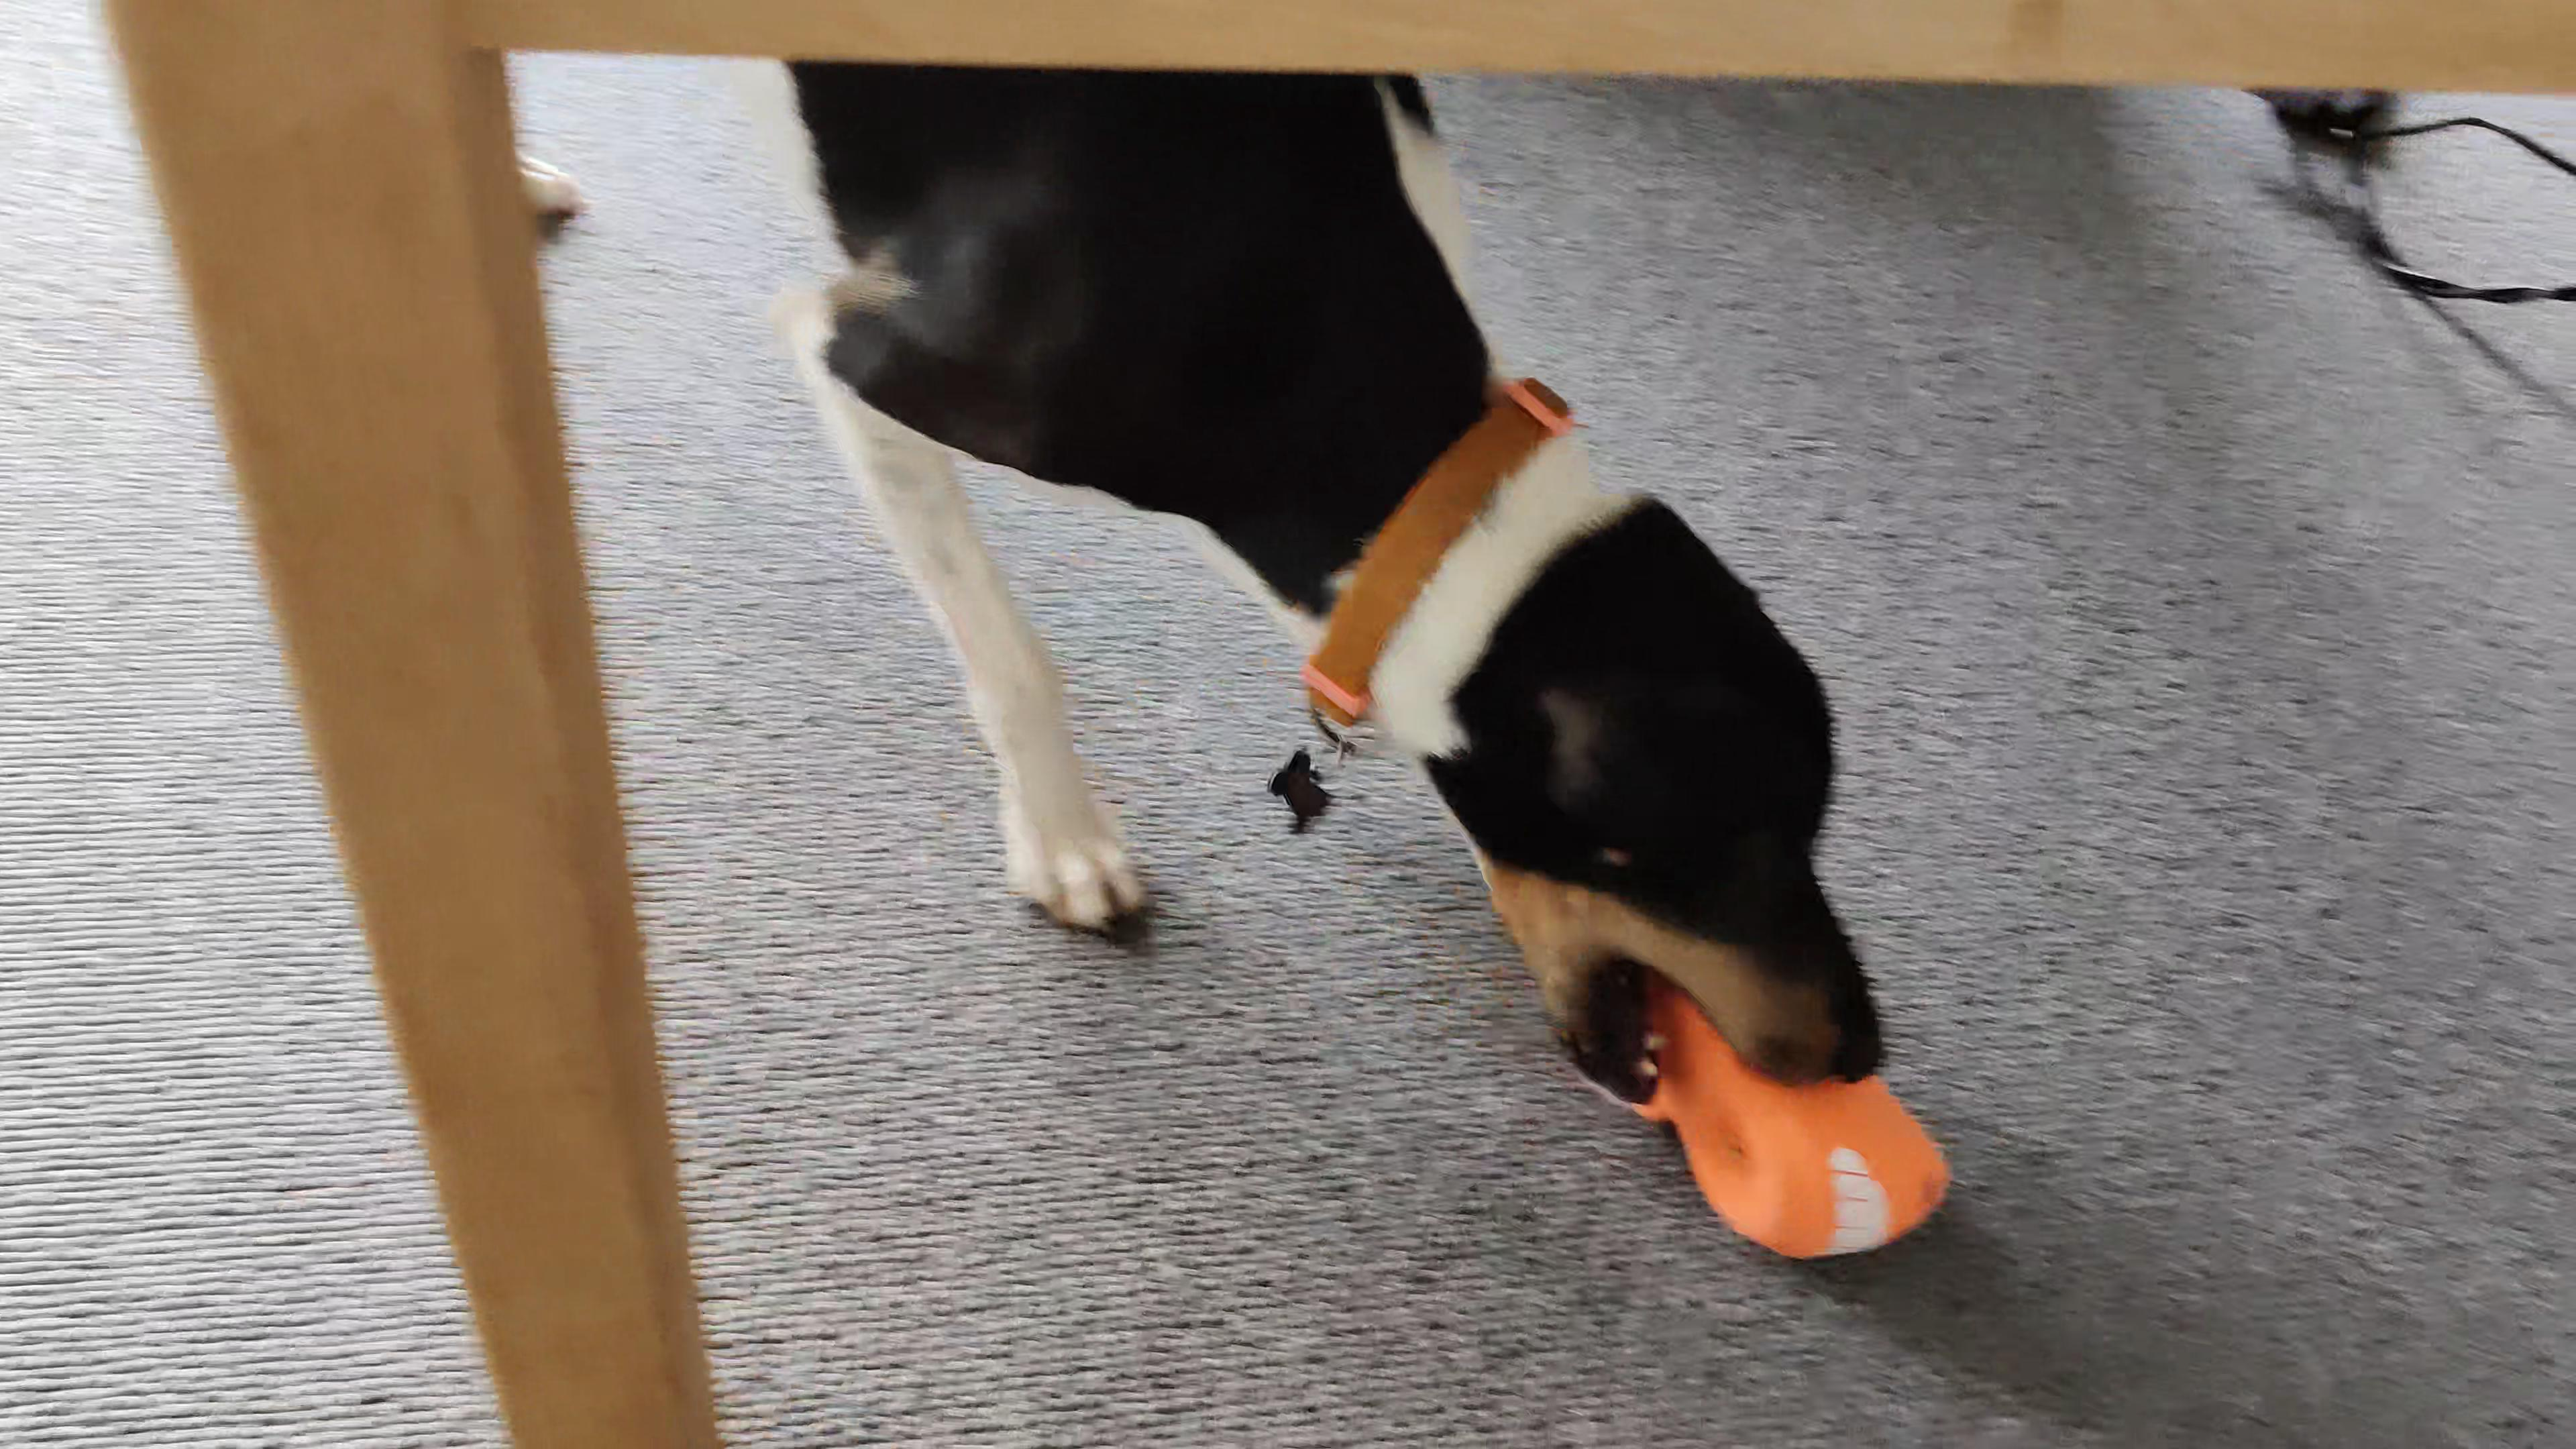Dog: (487, 35, 1913, 1109)
